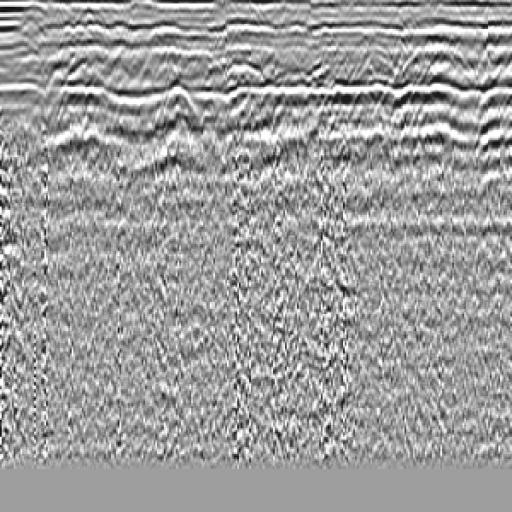non-metallic: (142, 75, 219, 294), (16, 69, 88, 291)
